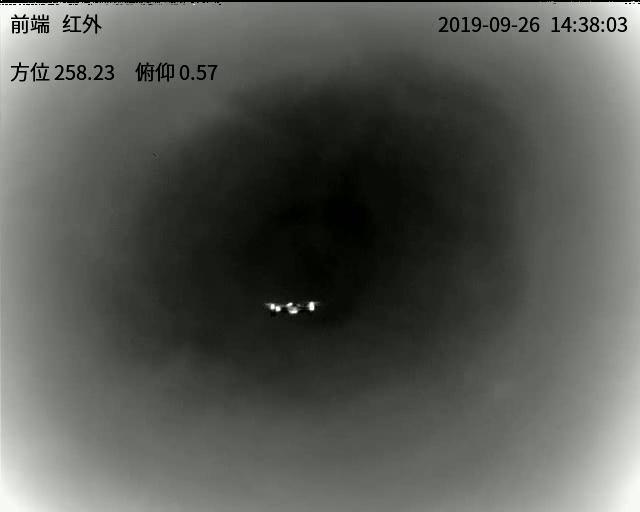DRONE: (266, 298, 320, 320)
